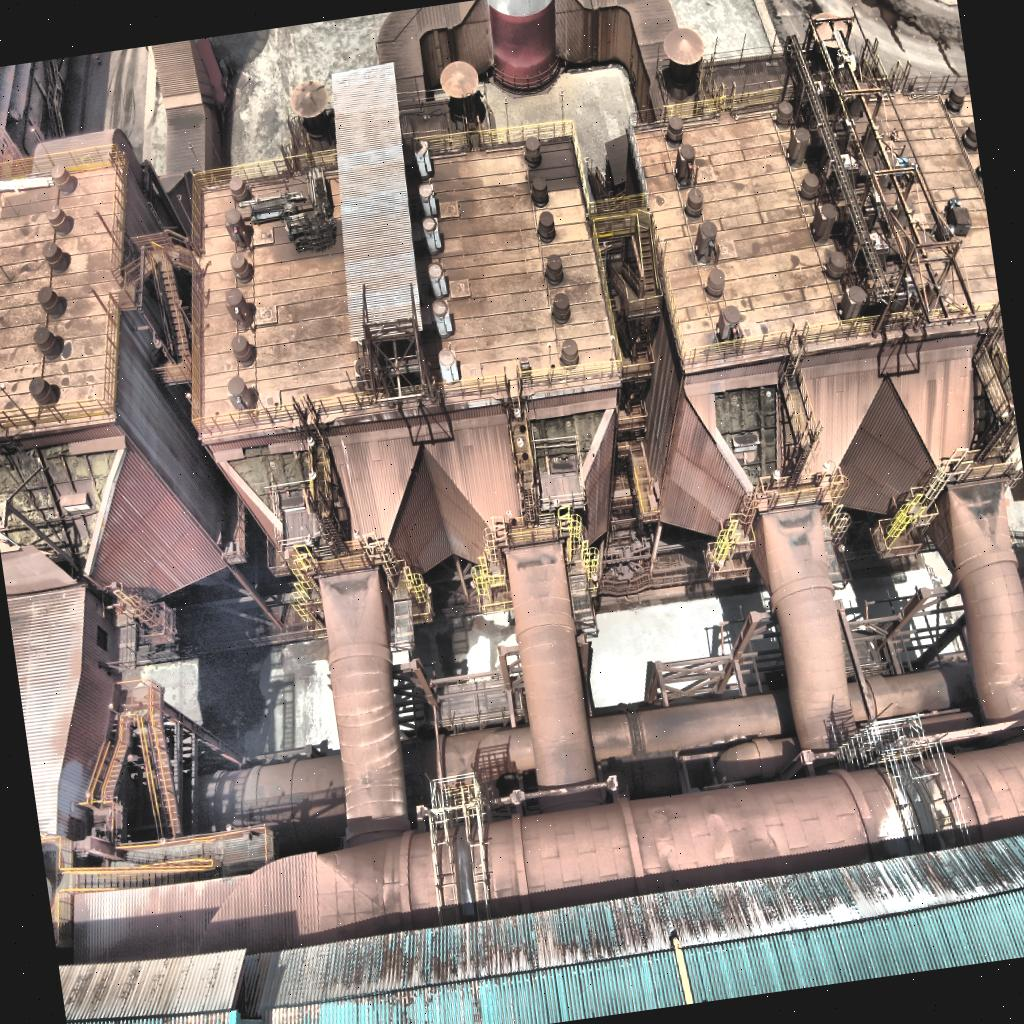Failures: (0, 432, 137, 590), (708, 380, 792, 496), (224, 441, 316, 527), (528, 404, 614, 484)
